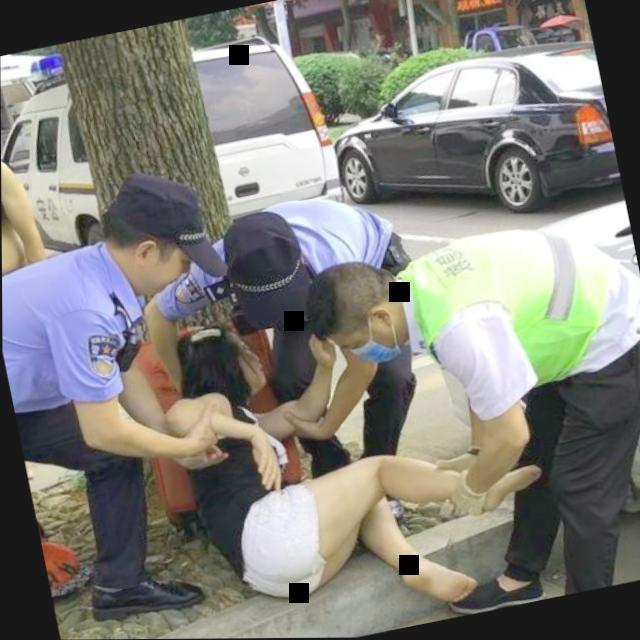Fall-Detected: (120, 252, 545, 639)
